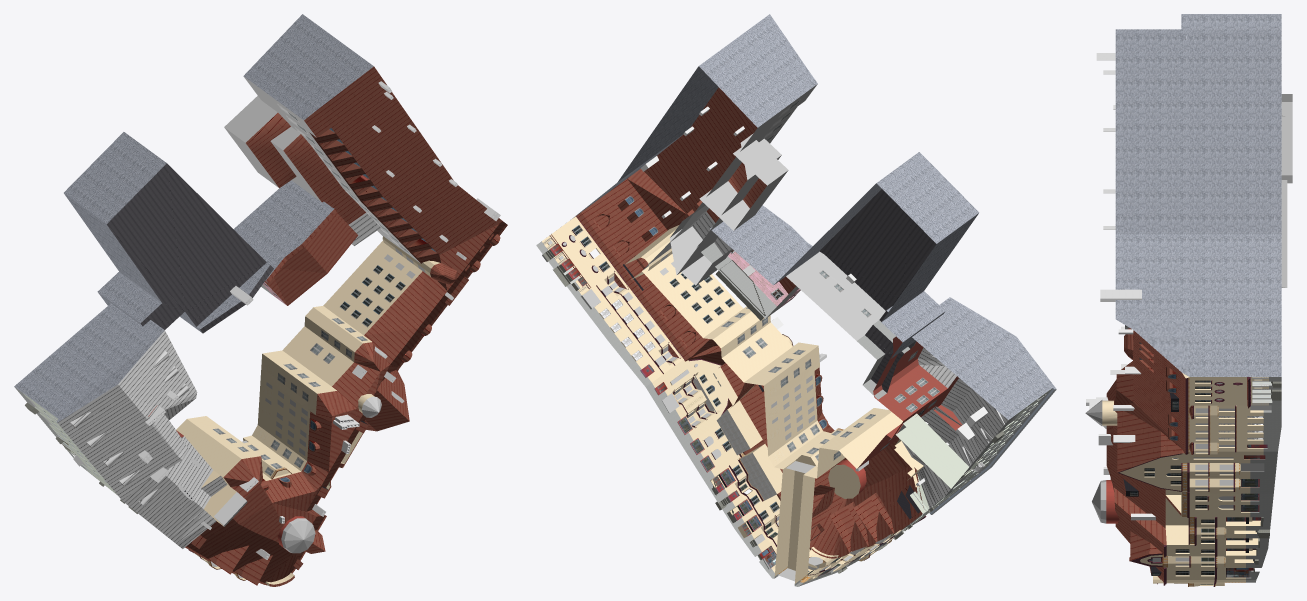
The model's file is Vaike-Karja_1_Sauna_2.obj.
The picture shows the model from 3 angles, left to right: view 1: azimuth 30°, elevation 25°; view 2: azimuth 150°, elevation 25°; view 3: azimuth 270°, elevation 25°; orthographic projection. The views are drawn at different scales.
Parts seen in each view (by area): view 1: vk_sauna; view 2: vk_sauna; view 3: vk_sauna.
Part boxes in pixels (box(x1,y1,x2,y2)): vk_sauna: box(14, 14, 507, 586); vk_sauna: box(536, 14, 1056, 586); vk_sauna: box(1085, 14, 1292, 586).
Size of the model in its own units: 85.48 by 90.13 by 28.3.
